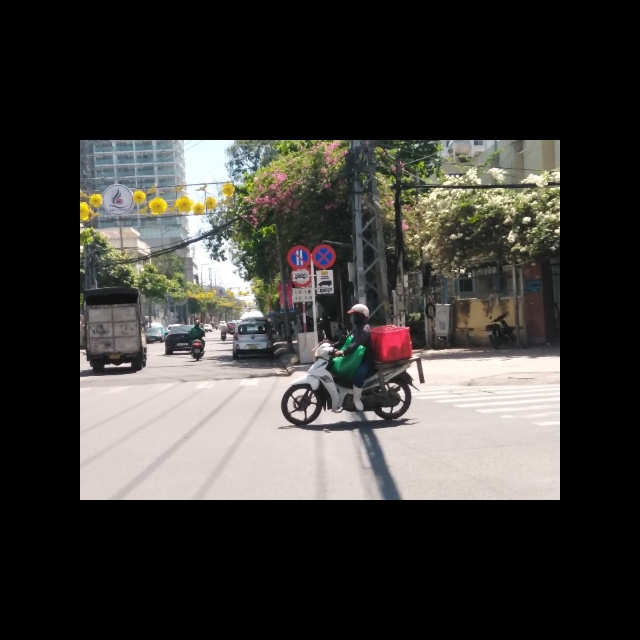Cấm dừng xe và đỗ xe: (312, 244, 336, 269)
Cấm đỗ xe ngày chẵn: (287, 245, 311, 269)
